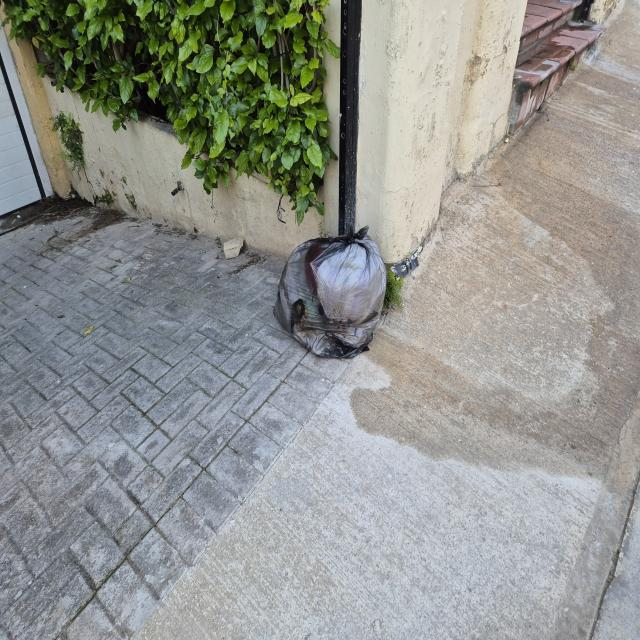black_bag: (266, 224, 416, 355)
